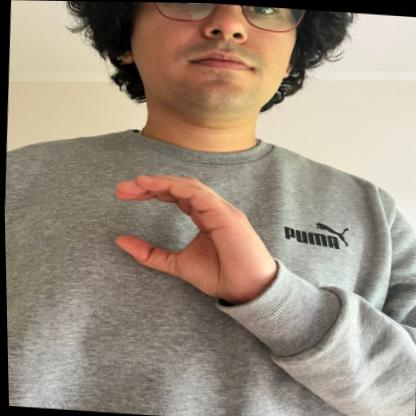C: (100, 160, 280, 300)
